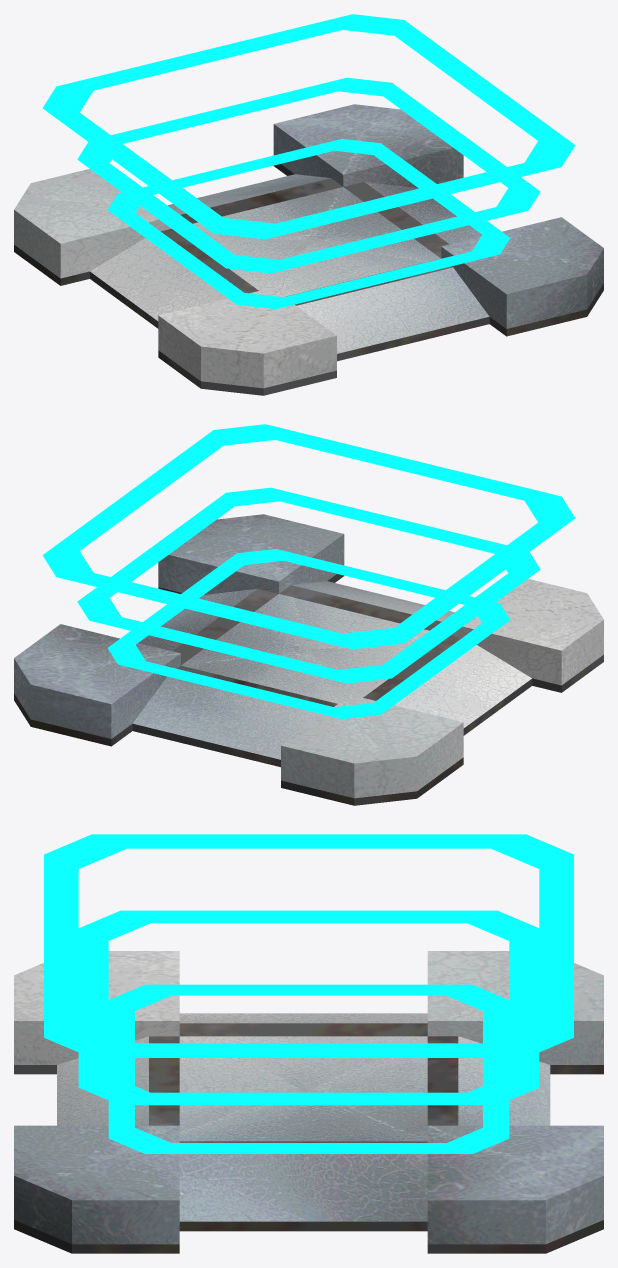
Rendered from solarStation1-3.glb.
3 views of the same model, one above another, from view 1: azimuth 30°, elevation 25°; view 2: azimuth 150°, elevation 25°; view 3: azimuth 270°, elevation 25° (orthographic). The views are drawn at different scales.
Parts seen in each view (by area): view 1: foundation.002, chargeRing.003, chargeRing.002, chargeRing.001; view 2: foundation.002, chargeRing.003, chargeRing.002, chargeRing.001; view 3: foundation.002, chargeRing.003, chargeRing.002, chargeRing.001.
Boxes of the visible parts, left/top/right/bottom form: foundation.002: left=14, top=104, right=603, bottom=395; chargeRing.003: left=42, top=14, right=575, bottom=239; chargeRing.002: left=77, top=77, right=540, bottom=273; chargeRing.001: left=107, top=139, right=510, bottom=308; foundation.002: left=14, top=514, right=603, bottom=805; chargeRing.003: left=42, top=424, right=575, bottom=649; chargeRing.002: left=77, top=487, right=540, bottom=683; chargeRing.001: left=107, top=549, right=510, bottom=718; foundation.002: left=14, top=951, right=603, bottom=1253; chargeRing.003: left=44, top=834, right=573, bottom=1057; chargeRing.002: left=78, top=910, right=539, bottom=1105; chargeRing.001: left=108, top=984, right=509, bottom=1153.
Bounding box in the file's own units: 0.924 × 0.3162 × 0.924.
2 materials, 1 textured.
